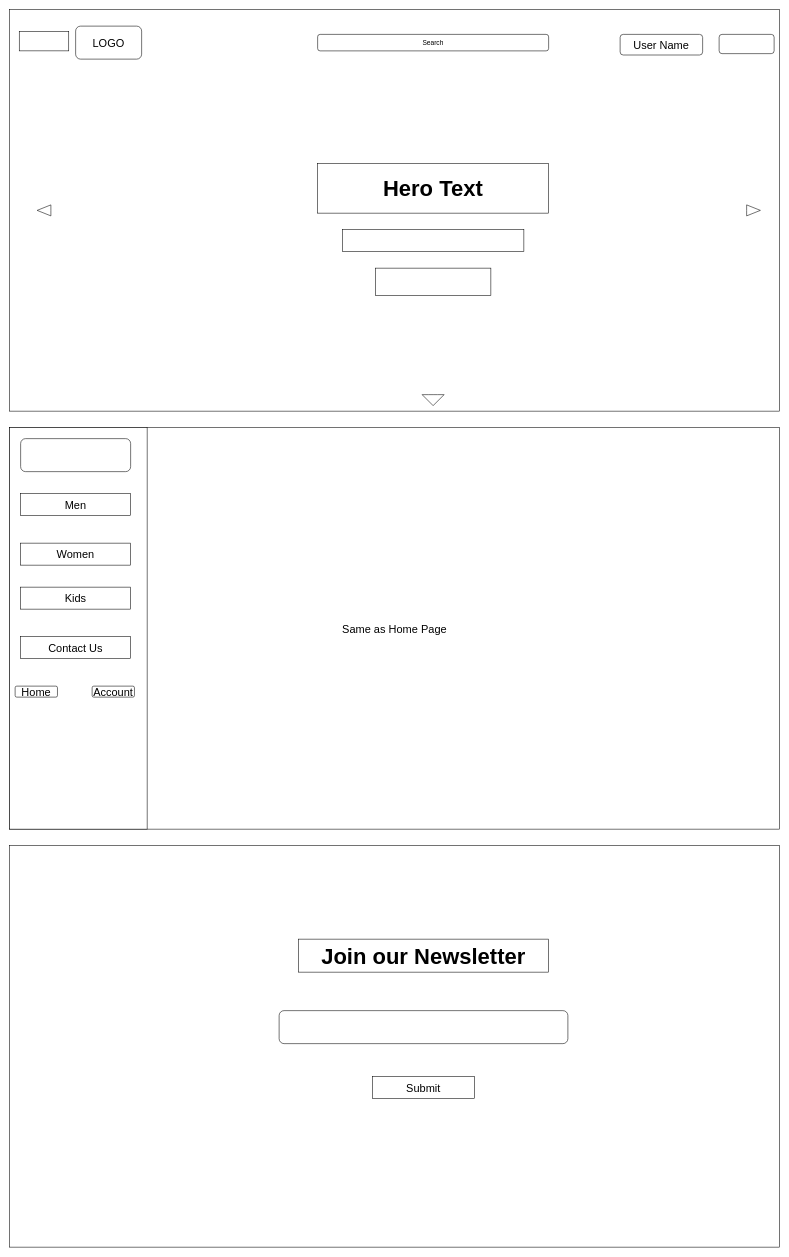
Some shapes in this 789 by 1257 pixel diagram are drawn without their labels. Each missing label, with the centre of its shape:
Cart: the point at 746,44
Categories: the point at 75,455
Email Input: the point at 423,1027
Menu: the point at 44,41
Sub Text: the point at 433,240
View Button: the point at 433,282
